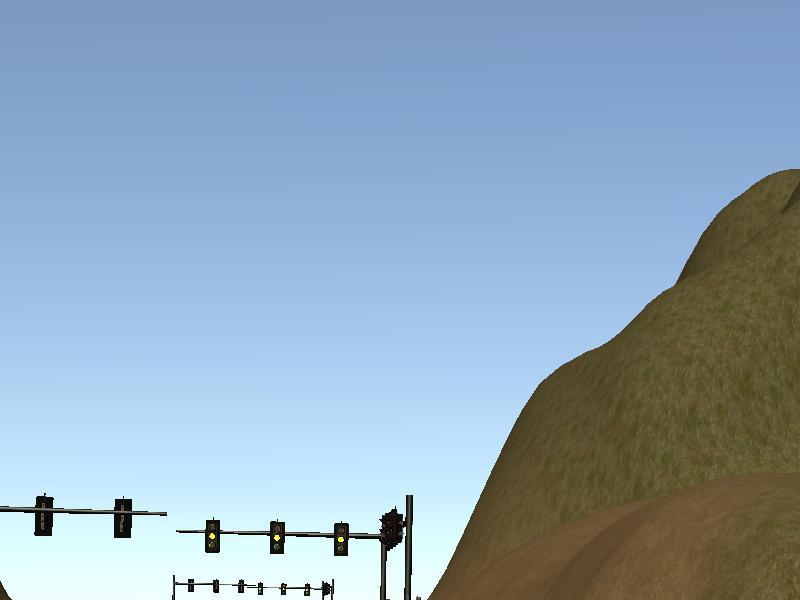yellow_light: (334, 523, 350, 557), (269, 523, 285, 555), (205, 519, 220, 552)
